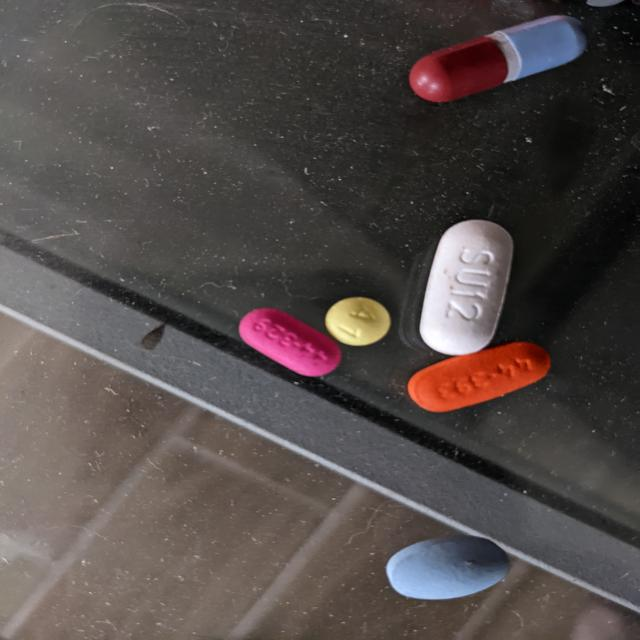non-organic waste: (407, 14, 590, 104), (417, 218, 516, 358), (406, 340, 552, 414), (384, 534, 511, 602), (237, 306, 344, 378), (323, 295, 393, 347)
